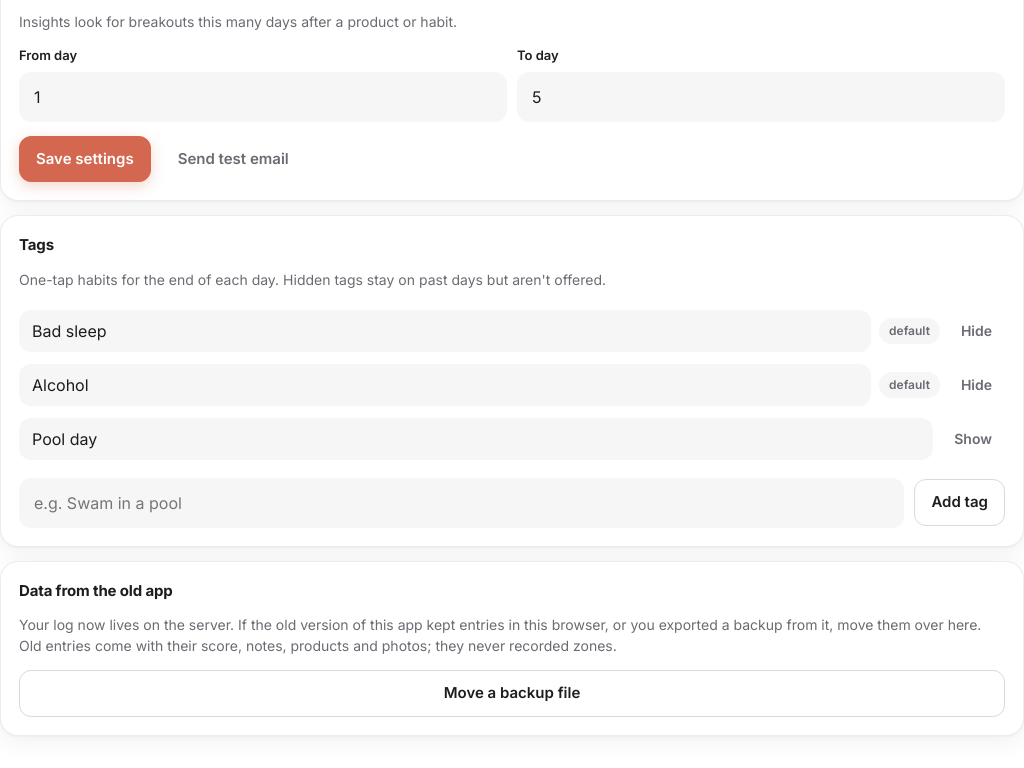
Tags › shows the duplicate-name message
(page scrolled)
Replace the text in the field named "Rename Alcohol" with "bad sleep". click: {"x": 445, "y": 384}
box: [19,364,871,406]
Then press Enter
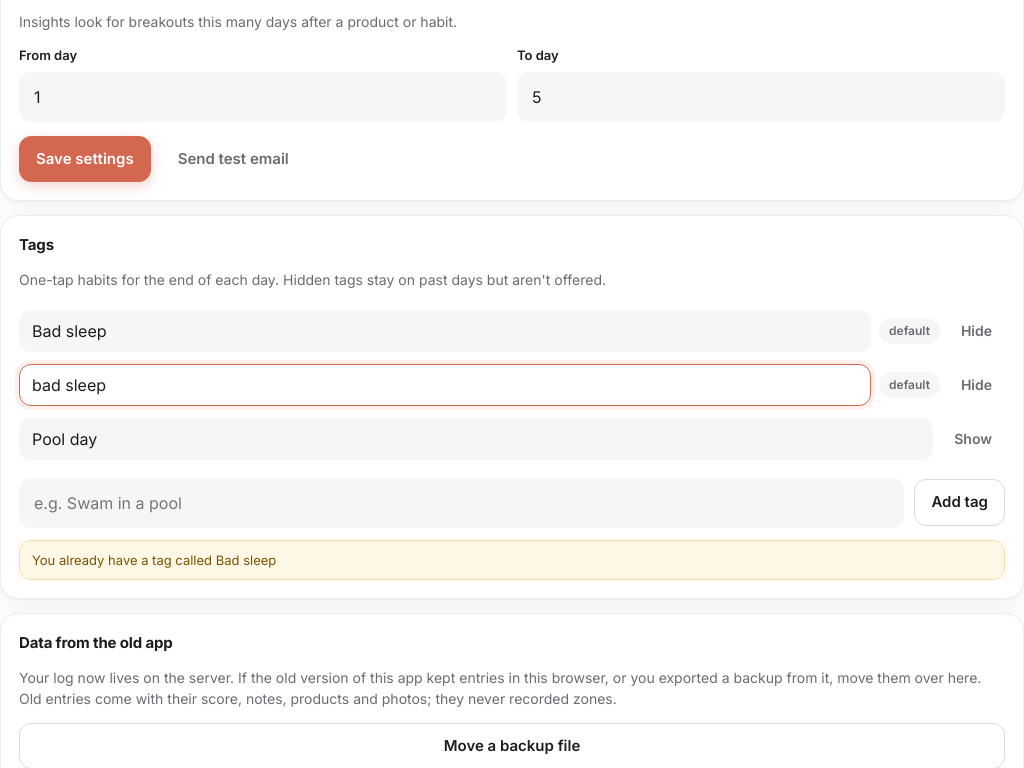
Expected: the message reads "You already have a tag called Bad sleep", [32,552,276,568]
